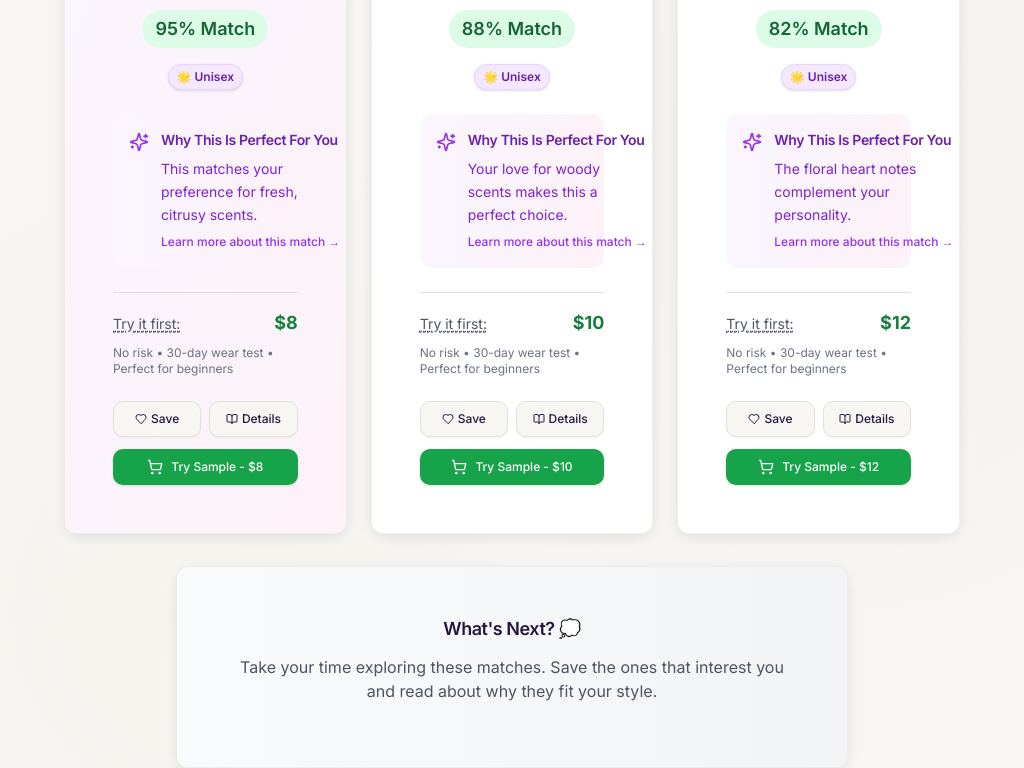
it: Integration Tests › flows correctly from exploration to conversion
(page scrolled)
# Interact to increase investment score
Click the 1st button "Save" at point(157, 419), box [113,401,201,437]
(page scrolled)
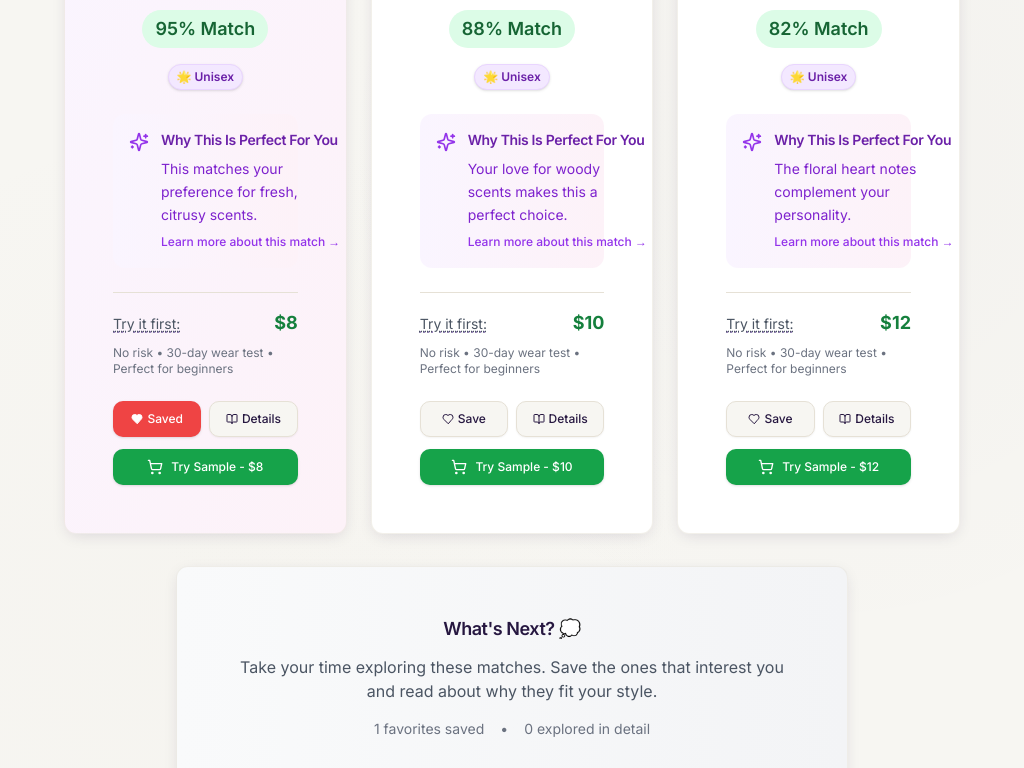
# More interactions
Click the 1st button "Details" at point(253, 419), box [209,401,298,437]
(page scrolled)
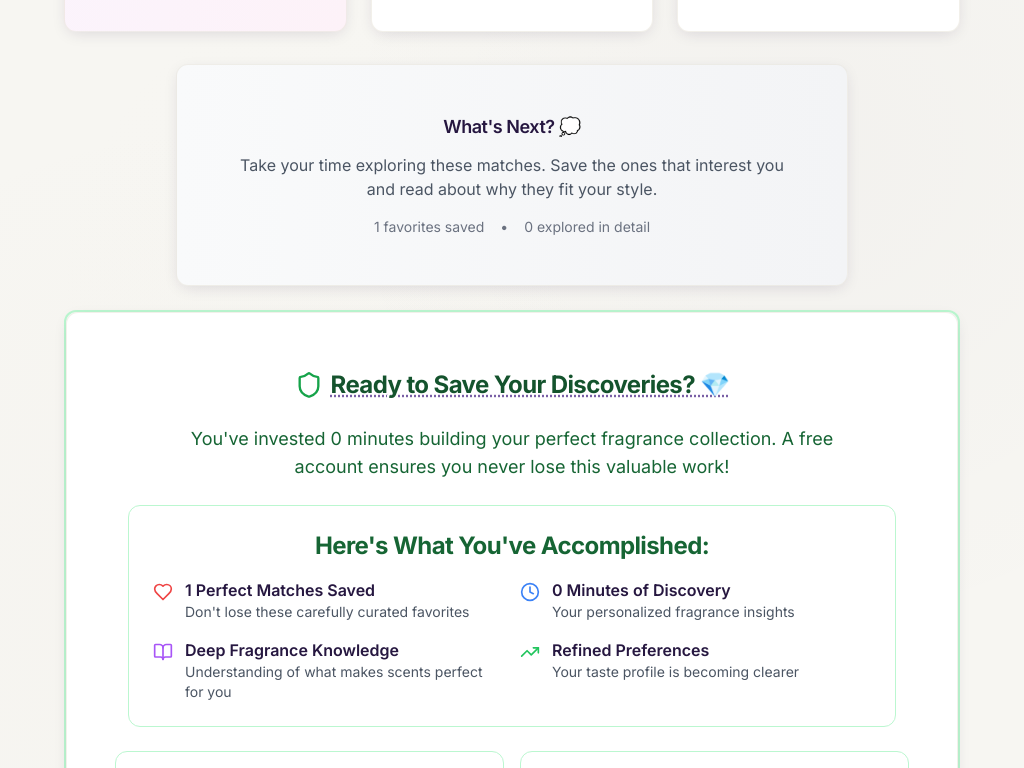
Check: the text "Ready to Save Your Discoveries? 💎" is shown, box [330,370,729,399]
